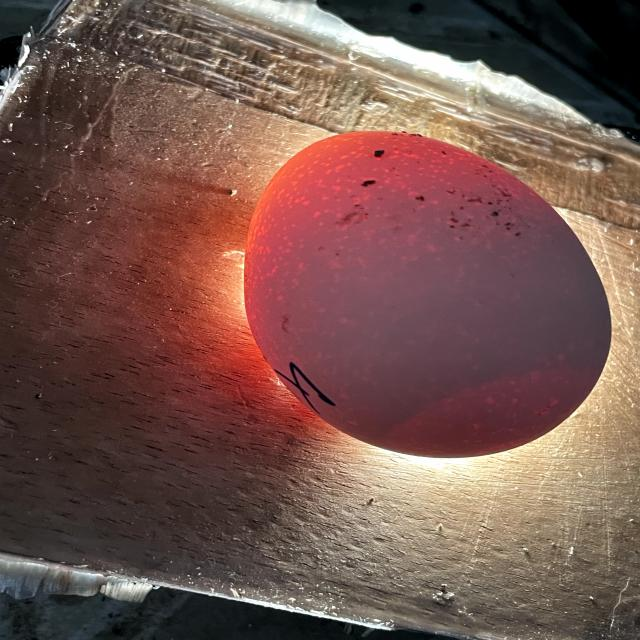fertile: (245, 131, 612, 458)
